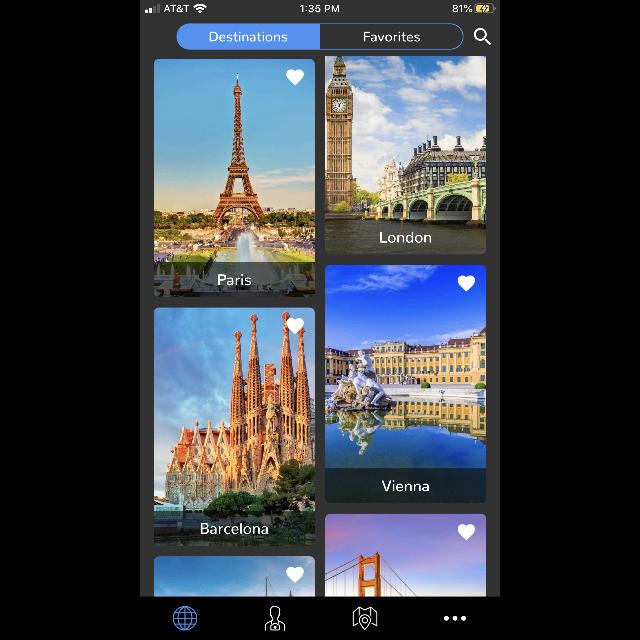icon: (172, 606, 198, 630), (352, 606, 378, 630), (264, 606, 286, 630), (474, 28, 492, 46), (286, 318, 304, 334), (286, 567, 304, 583), (288, 70, 304, 86), (458, 275, 474, 291), (458, 524, 474, 540), (444, 616, 466, 620)
image: (154, 308, 316, 546), (153, 59, 314, 297), (326, 265, 487, 503), (326, 56, 487, 255), (326, 514, 487, 596), (153, 556, 314, 596)
text: (200, 522, 268, 534), (382, 480, 430, 492), (381, 232, 432, 242), (218, 274, 250, 286)
textbutton: (176, 24, 320, 50), (320, 24, 464, 50)
uppertaskbar: (140, 0, 500, 14)
